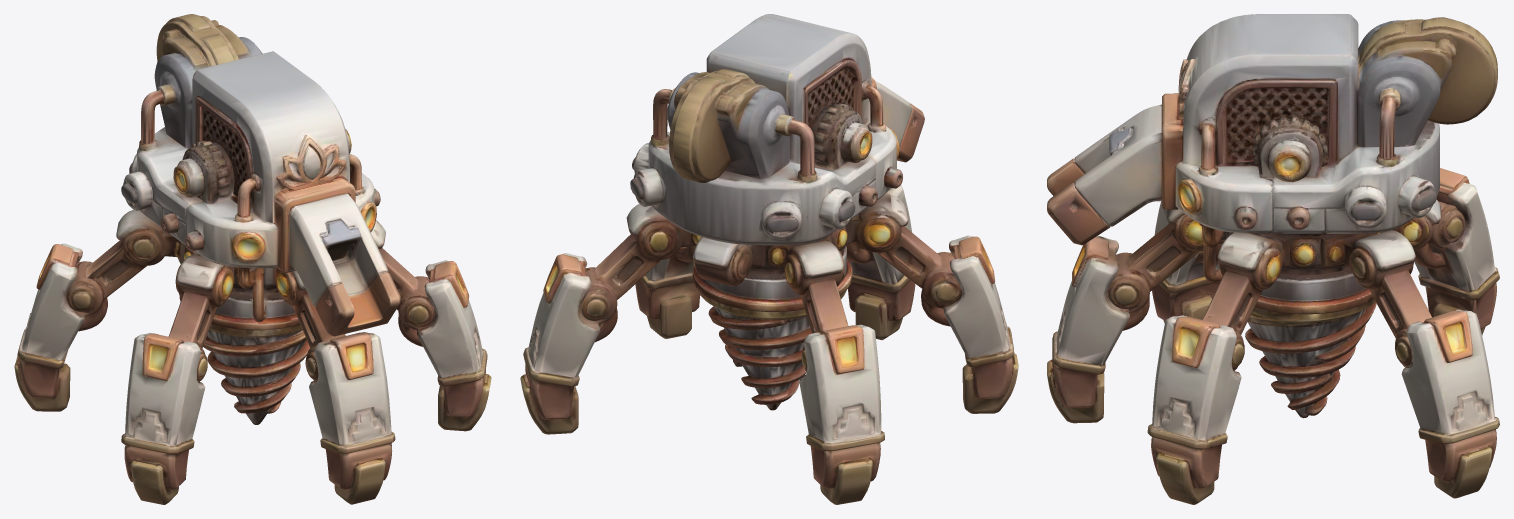
The model's file is auto_drill.glb.
3 renders of one model, left to right at view 1: azimuth 30°, elevation 25°; view 2: azimuth 150°, elevation 25°; view 3: azimuth 270°, elevation 25°, orthographic. The views are drawn at different scales.
Visible parts, largest first — view 1: convert; view 2: convert; view 3: convert.
Part boxes in pixels (<box>): convert: <box>14,14,491,504</box>; convert: <box>520,14,1018,504</box>; convert: <box>1047,14,1499,504</box>.
Size of the model in its own units: 0.7961 by 0.7539 by 0.7826.
Materials: 1 (1 with a texture image).
